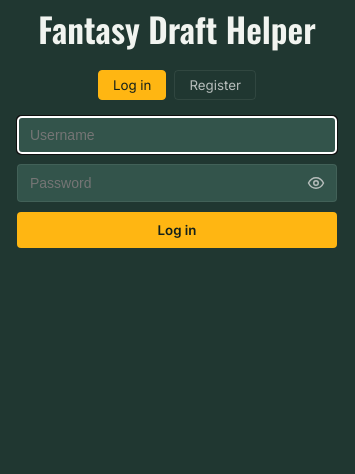
Test: LoginForm › clears the mismatch message when Confirm password changes
The image size is (355, 474).
Click the button "Register" at {"x": 215, "y": 85}, box [174, 70, 256, 100]
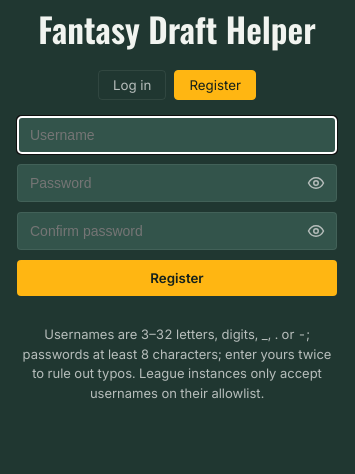
Type "password123" into the password field labelled "Password" at {"x": 177, "y": 183}, box [17, 164, 337, 202]
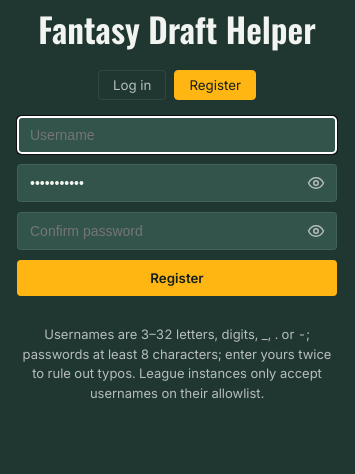
Type "password124" into the password field labelled "Confirm password" at {"x": 177, "y": 231}, box [17, 212, 337, 250]
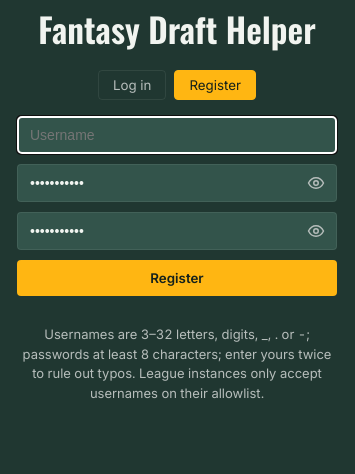
Submit the form named "Password", box [17, 116, 337, 296]
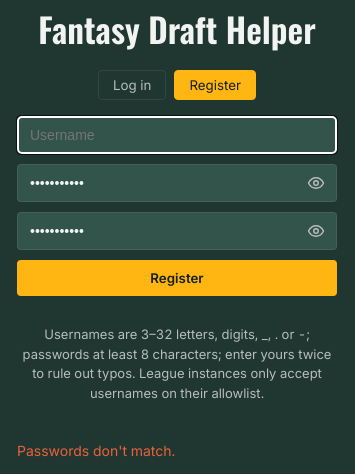
Type "password1234" into the password field named "Confirm password" at {"x": 177, "y": 231}, box [17, 212, 337, 250]
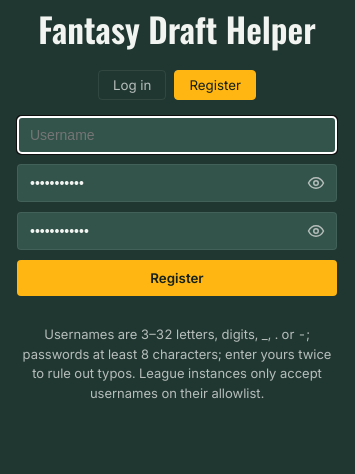
Check: the message "Passwords don't match." is gone
